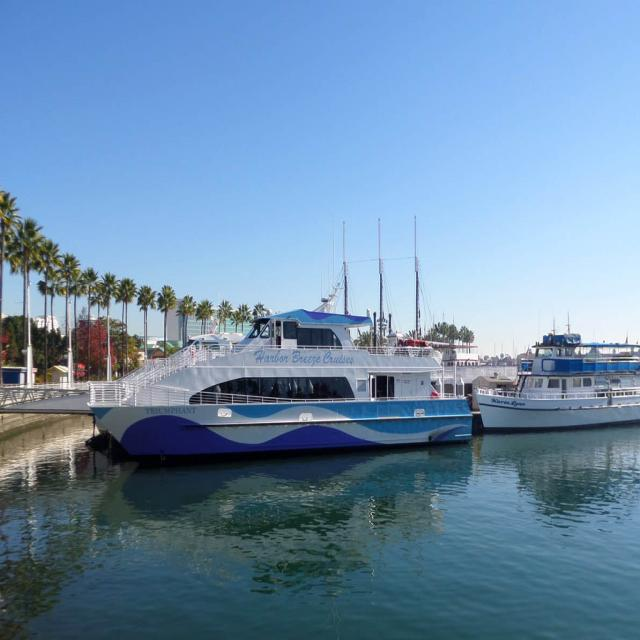houseboat: (78, 299, 476, 455), (475, 326, 640, 424)
